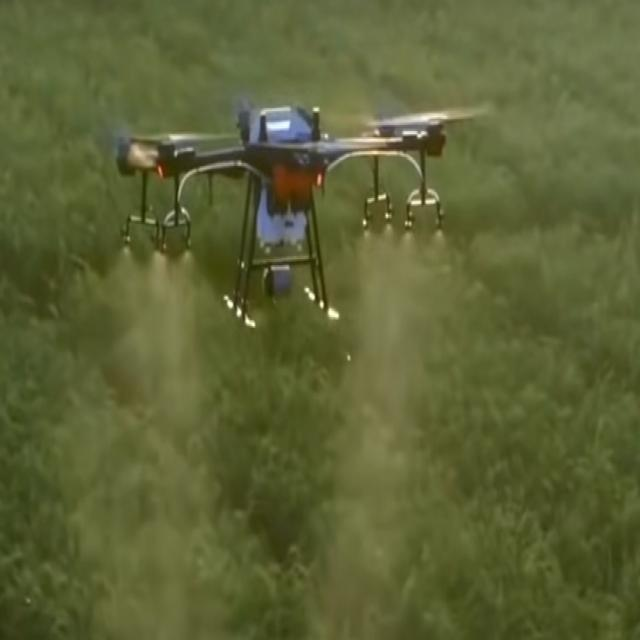drone: (67, 43, 505, 370)
